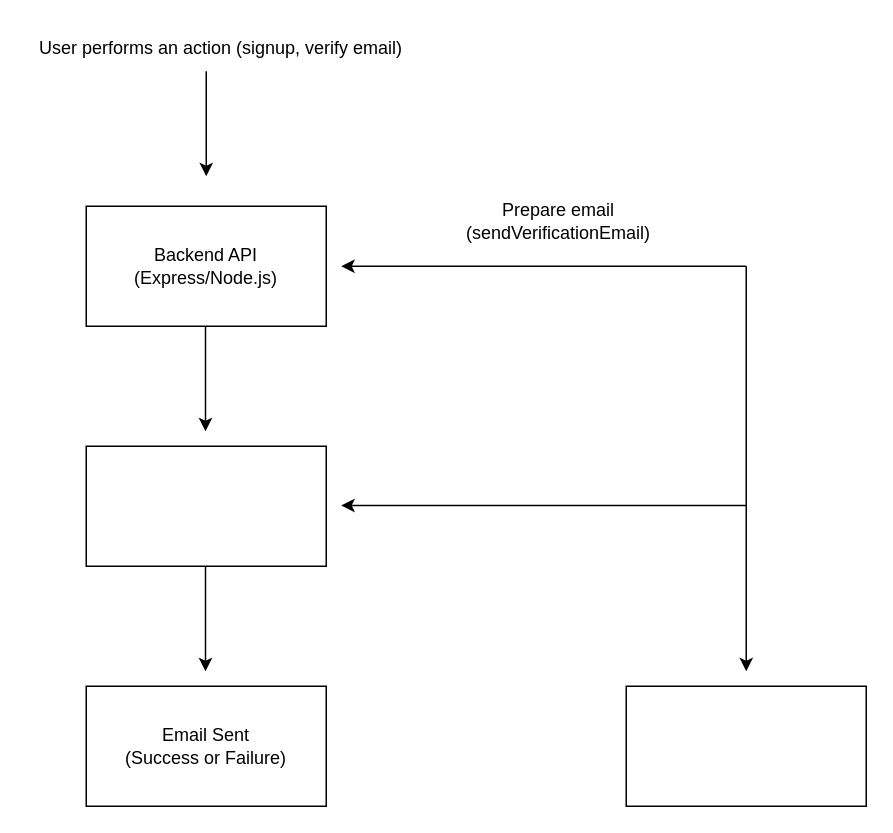
Some shapes in this 893 by 833 pixel diagram are drawn without their labels. Here are the shapes that lost their labels. From the top down, the centre of each, then its label:
At pixel 205 505: "Send verification email (Via Mailtrap)".
At pixel 745 745: "Send welcome email".
